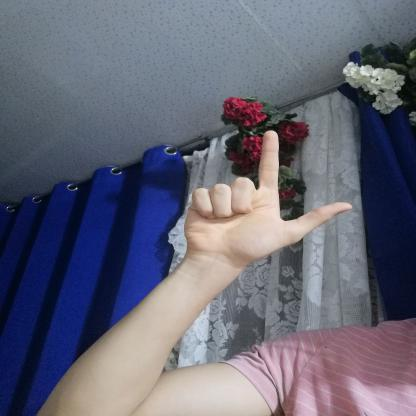LAAM: (172, 120, 363, 273)
